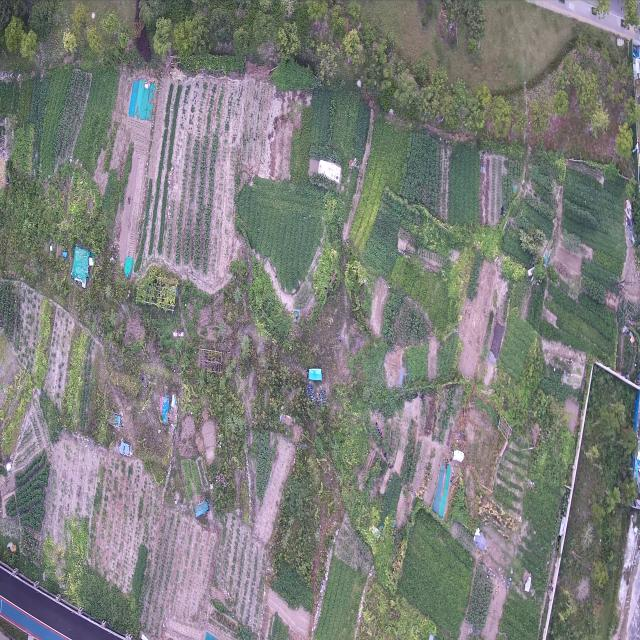UAV: (388, 361, 412, 392)
